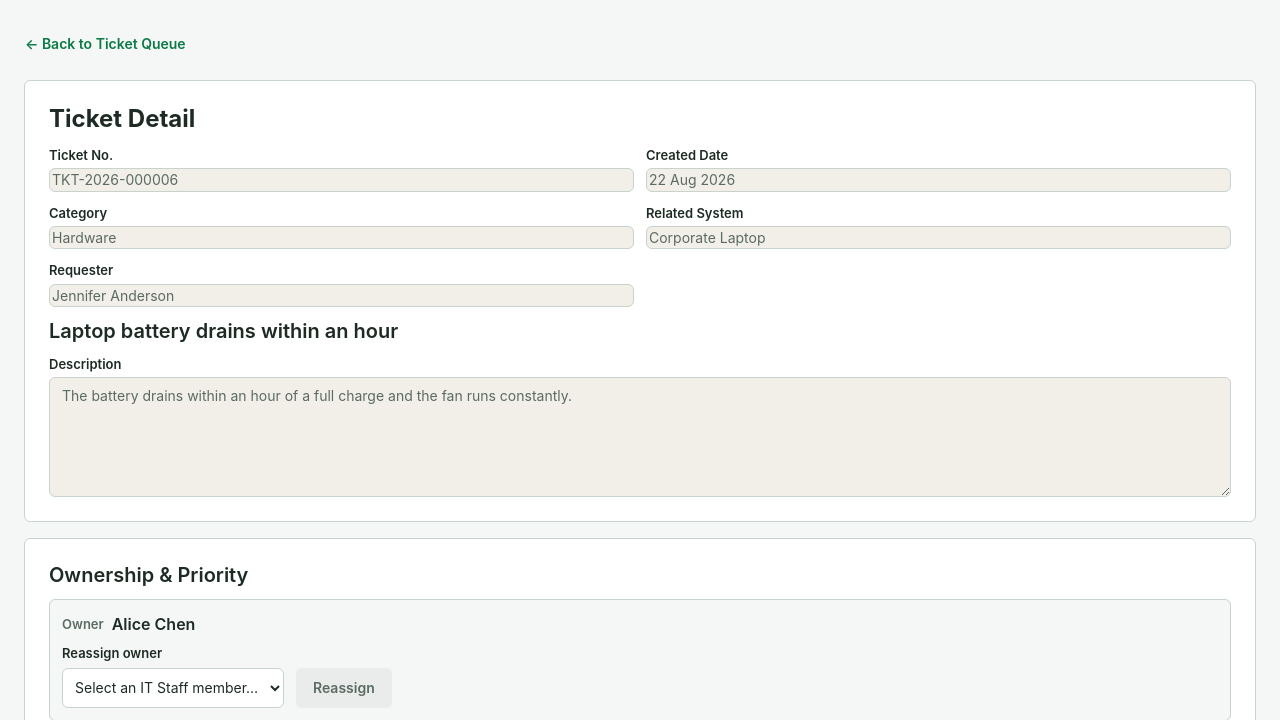
UI-06 — ownership, IT Priority, and page states › surfaces a 422 INVALID_OWNER beside the ownership control and stays usable (AC-18)
Expected: the element with test id "staff-ticket-header" is shown, 24,80 -> 1256,522
Select "Ben Carter" in the dropdown labelled "Reassign owner" at (173, 688), box 62,668 -> 284,708
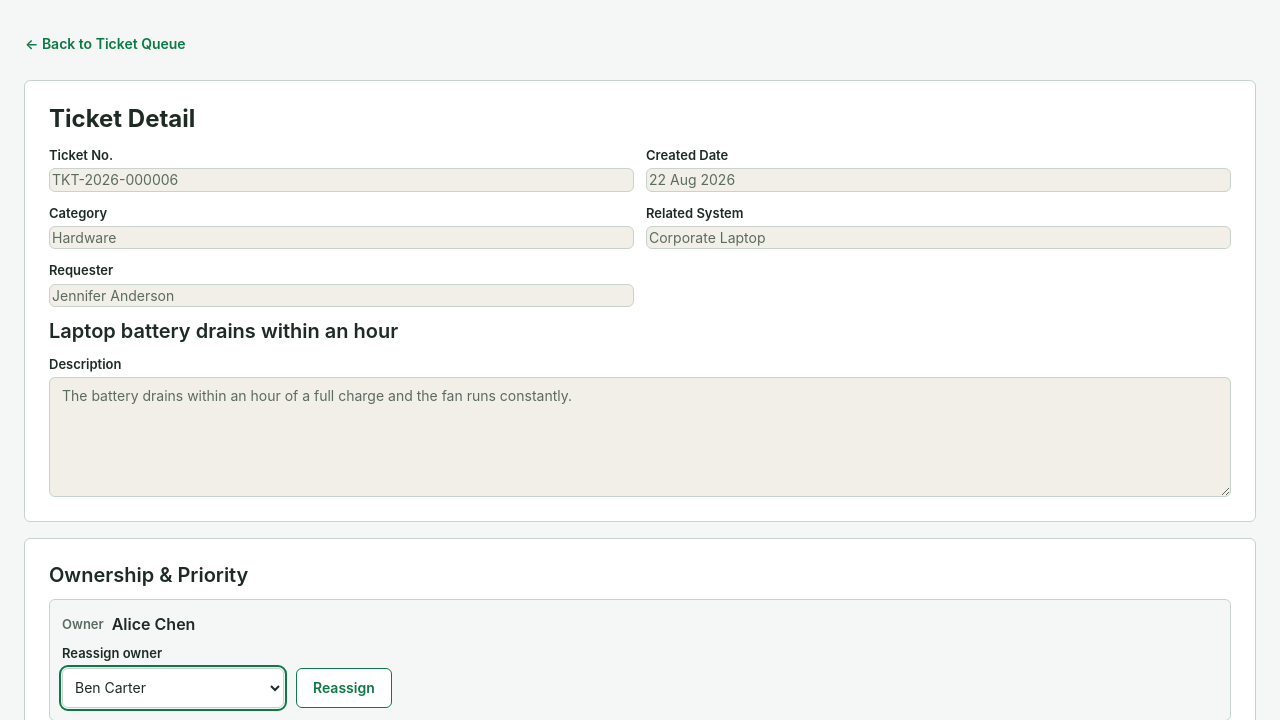
Click the button "Reassign".
click(344, 688)  # box 296,668 -> 392,708
(page scrolled)
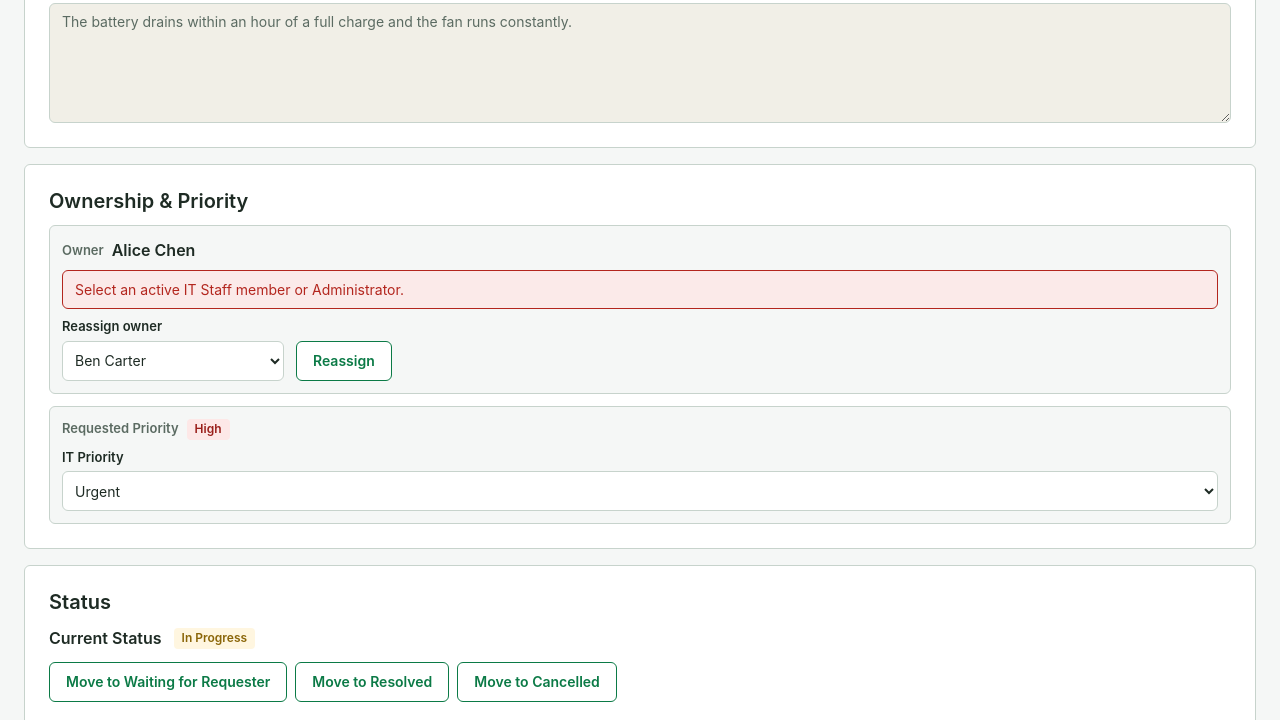
Expected: the text with test id "owner-display" reads "Alice Chen", 112,240 -> 195,260
Expected: the button "Reassign" is enabled
Expected: the message with test id "owner-error" reads "Select an active IT Staff member or Administrator.", 75,281 -> 404,298
Click the button "Reassign".
click(344, 361)  # box 296,341 -> 392,381
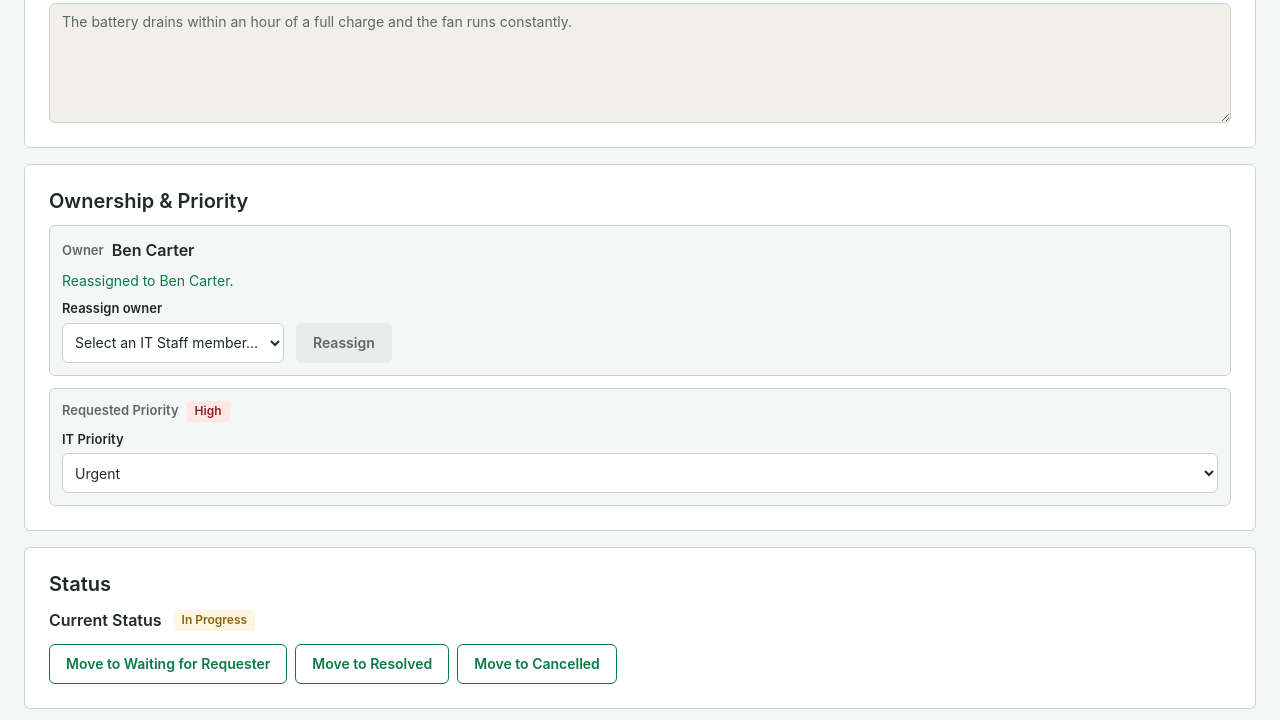
Expected: the message with test id "owner-success" shows "Reassigned to Ben Carter", 62,272 -> 234,289
Expected: the message with test id "owner-error" is gone
Expected: the text with test id "owner-display" reads "Ben Carter", 112,240 -> 194,260
